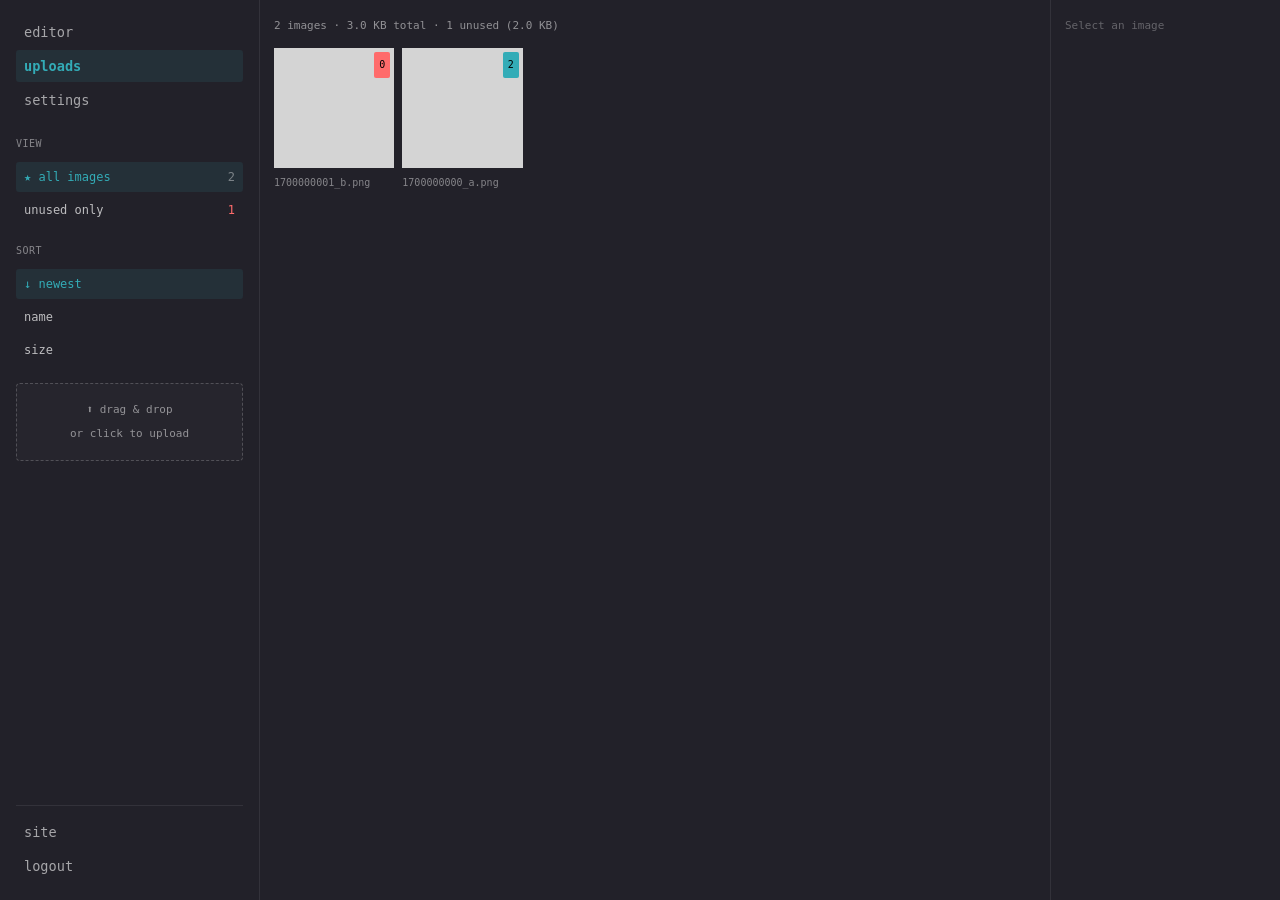
Test case: UploadsPage — filters, sort, detail rail › shows a toast after Copy URL is clicked
Expected: the text "1700000000_a.png" is shown, [402,177,499,188]
Click the element showing "2 1700000000_a.png". click: (462, 122)
box: [402,48,523,195]
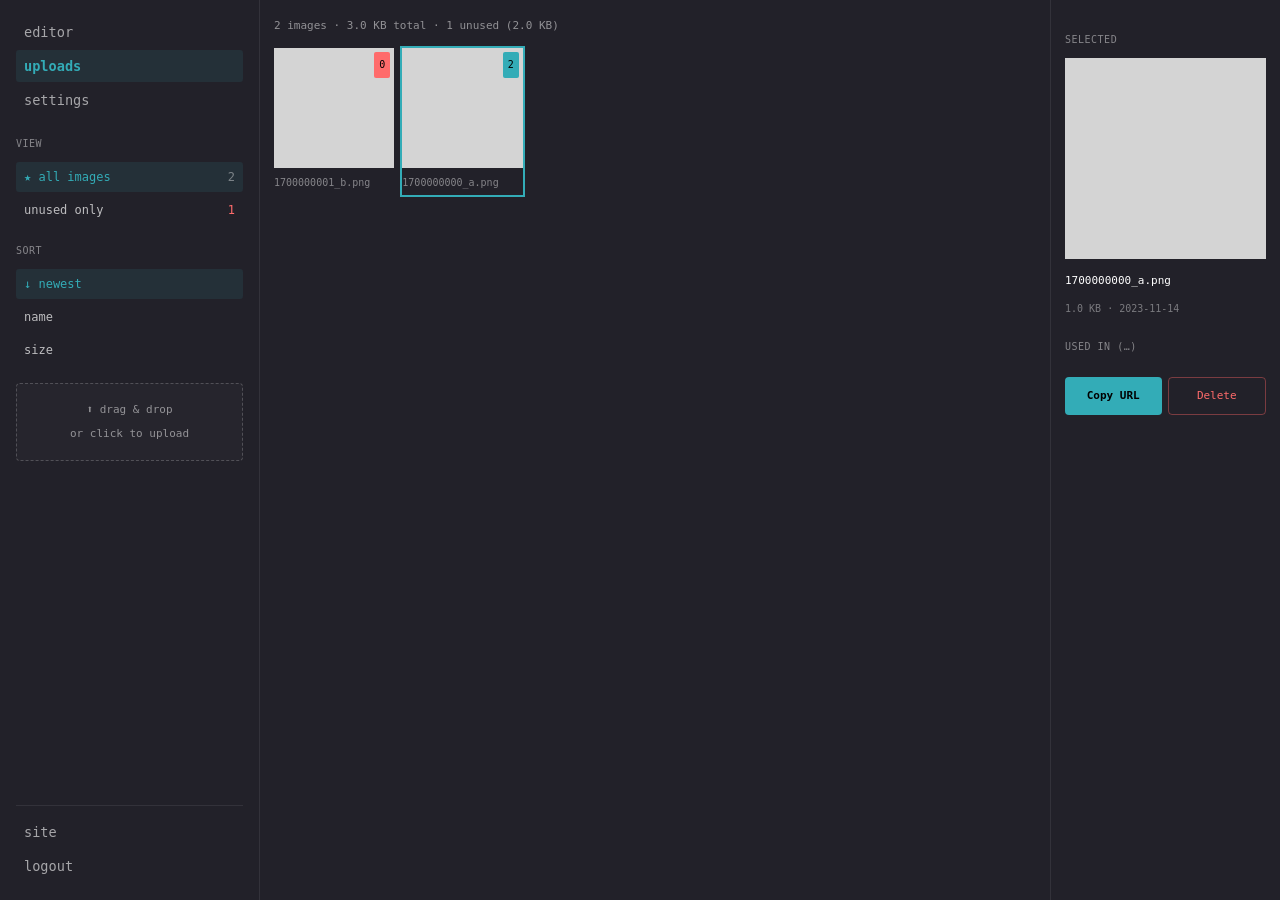
Click the button with test id "copy-url". click: (1113, 396)
box: [1065,377,1162,415]
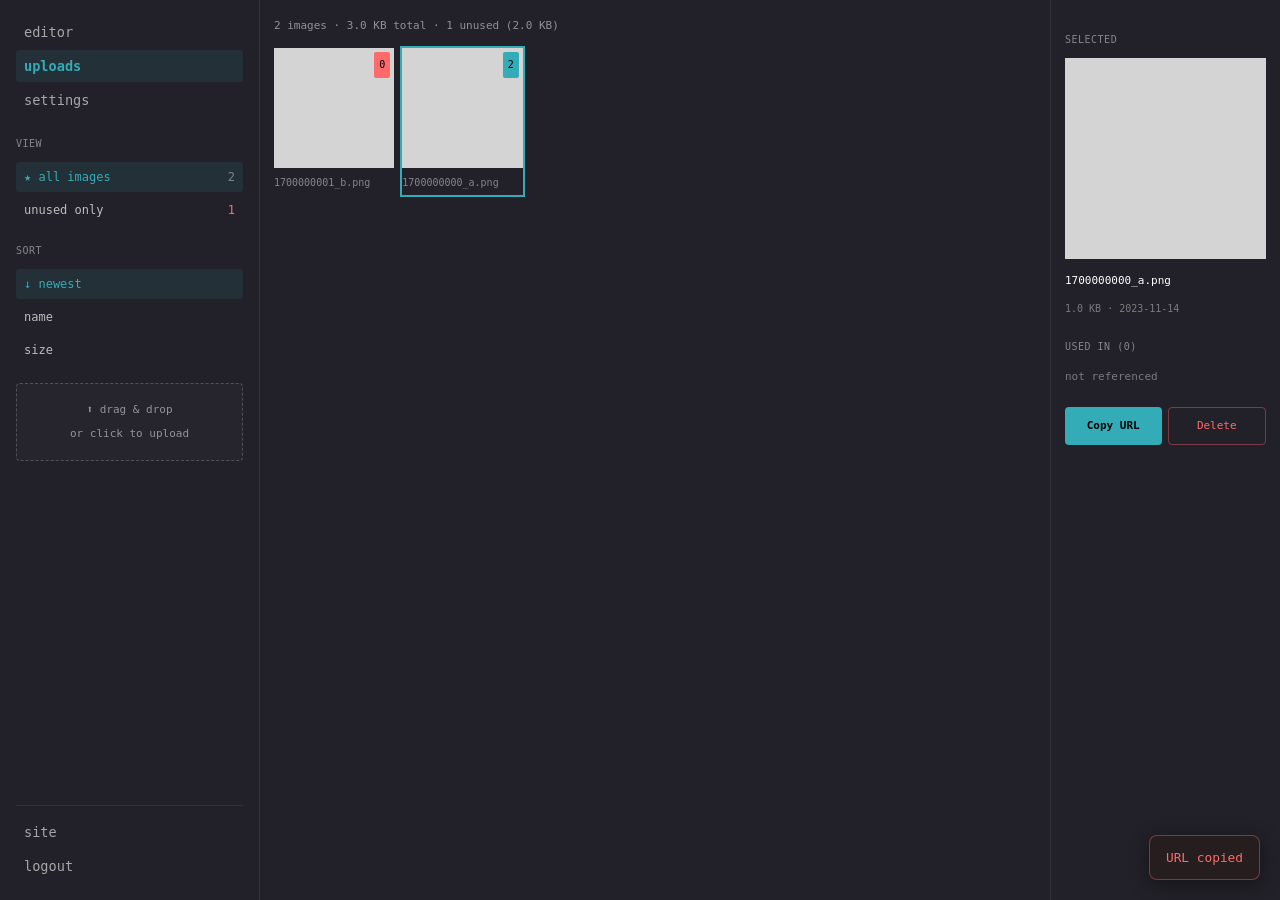
Result: the text "URL copied" is shown at [1149,835,1260,880]
